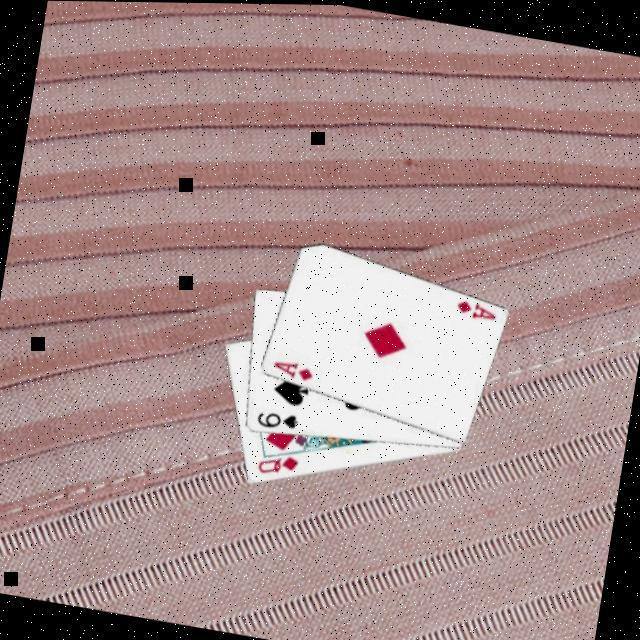6S: (250, 402, 300, 432)
AD: (268, 352, 316, 382), (451, 292, 498, 322)
QD: (252, 444, 300, 480)
